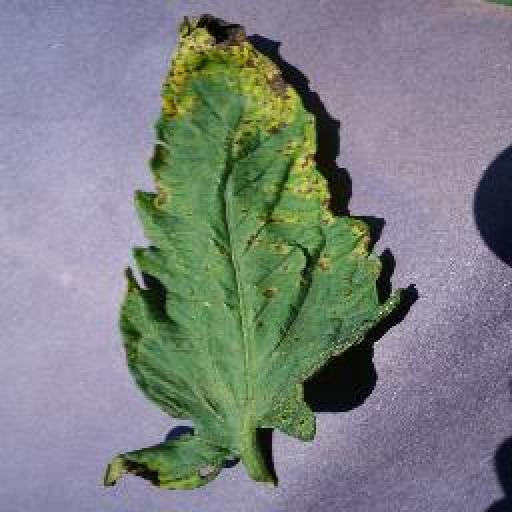disease_tomato: (107, 12, 400, 493)
